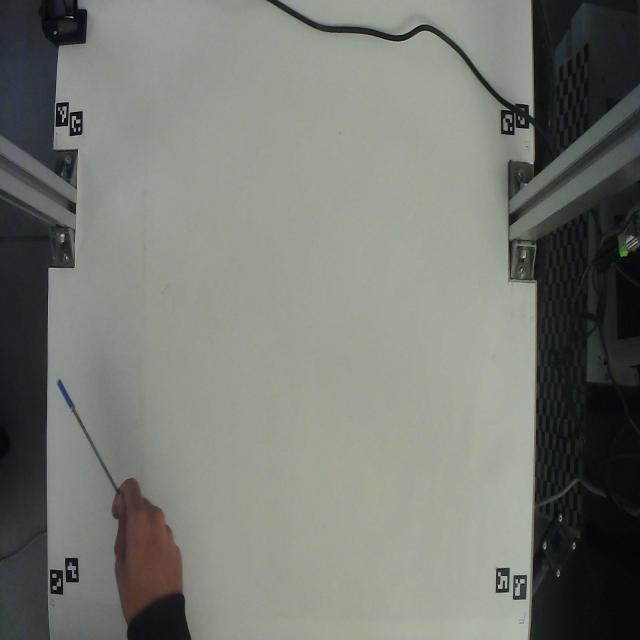NoPres: (54, 368, 132, 510)
